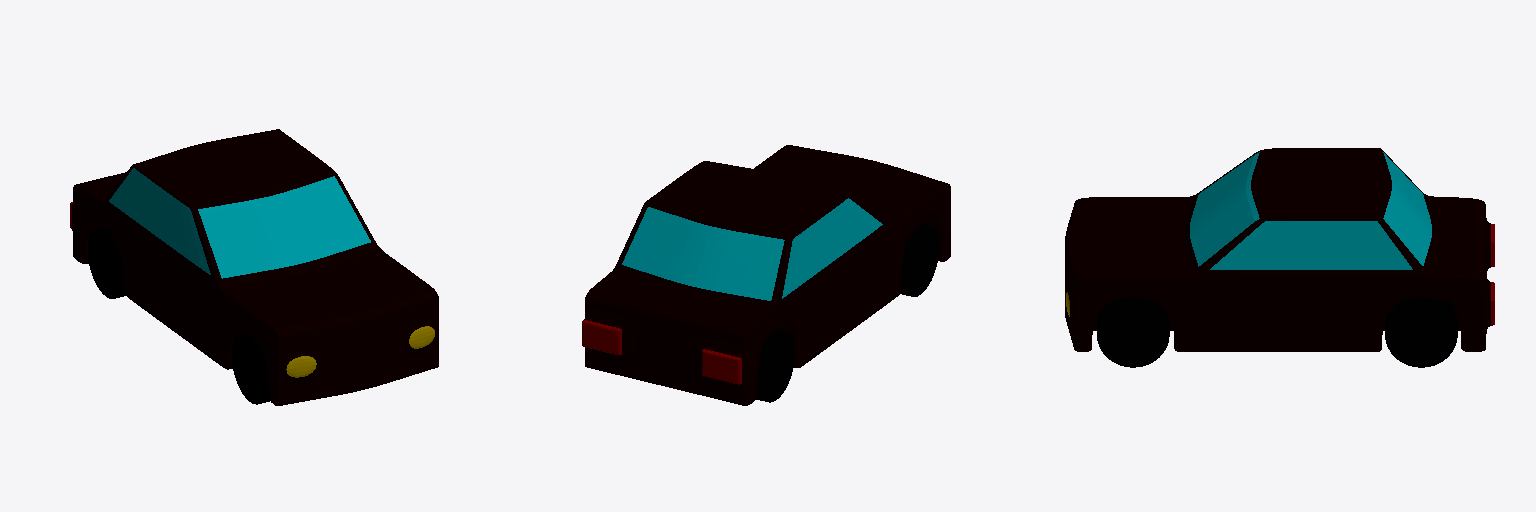
The model's file is MyCar.obj.
The picture shows the model from 3 angles: view 1: azimuth 30°, elevation 25°; view 2: azimuth 150°, elevation 25°; view 3: azimuth 270°, elevation 25°; orthographic projection.
Visible parts, largest first — view 1: Car_Cube, Wheel.002_Cylinder.002, Wheel.003_Cylinder.003; view 2: Car_Cube, Wheel.003_Cylinder.003, Wheel.002_Cylinder.002; view 3: Car_Cube, Wheel_Cylinder, Wheel.001_Cylinder.001.
Part boxes in pixels (x1,y1,x2,y2): Car_Cube: (70,129,438,405); Wheel.002_Cylinder.002: (232,332,269,404); Wheel.003_Cylinder.003: (88,227,125,298); Car_Cube: (582,145,950,405); Wheel.003_Cylinder.003: (756,330,794,402); Wheel.002_Cylinder.002: (900,225,938,296); Car_Cube: (1065,148,1494,351); Wheel_Cylinder: (1385,298,1457,367); Wheel.001_Cylinder.001: (1097,298,1169,367).
Size of the model in its own units: 1.6 by 1.37 by 3.66.